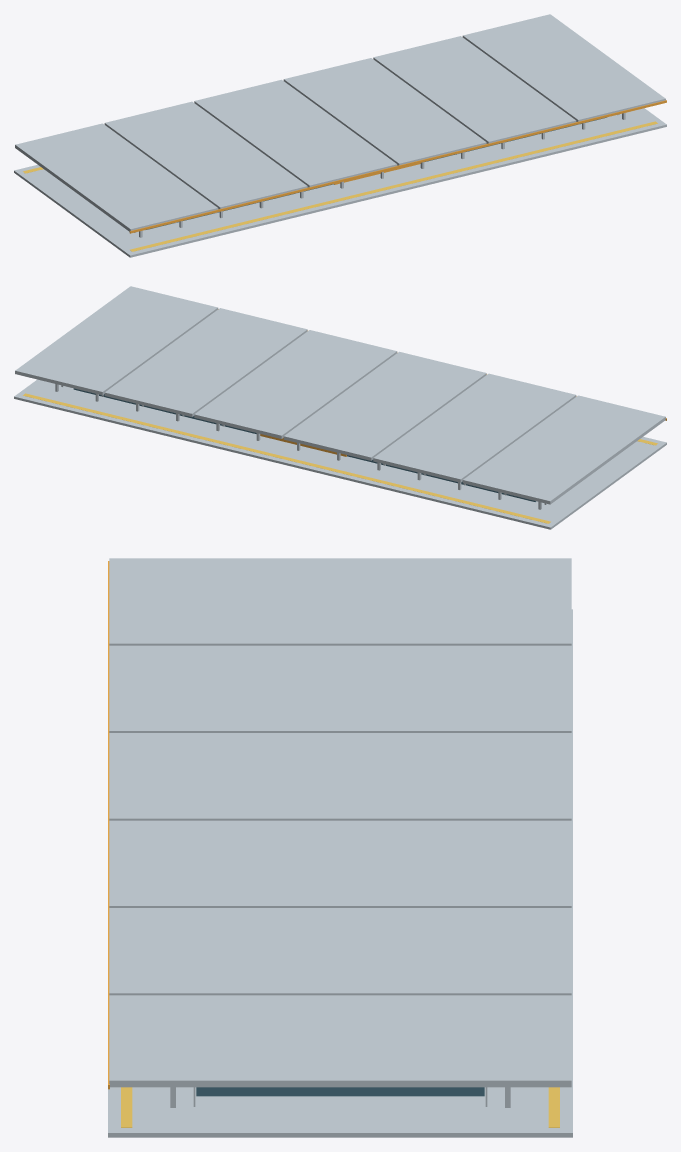
The model's file is nynj-station-TMP.glb.
3 views of the same model, one above another, from view 1: azimuth 30°, elevation 25°; view 2: azimuth 150°, elevation 25°; view 3: azimuth 270°, elevation 25° (orthographic). The views are drawn at different scales.
Visible parts, largest first — view 1: Canopy panel (×6), Platform, Platform edge, Phase fascia; view 2: Canopy panel (×6), Platform, Platform edge, Concourse glazing; view 3: Canopy panel (×6), Platform, Concourse glazing, Phase fascia.
Part boxes in pixels (bbox=[...]): Canopy panel (×6): bbox=[15, 14, 665, 231]; Platform: bbox=[14, 108, 666, 257]; Platform edge: bbox=[130, 121, 657, 251]; Phase fascia: bbox=[129, 100, 666, 233]; Canopy panel (×6): bbox=[15, 286, 665, 504]; Platform: bbox=[14, 379, 666, 529]; Platform edge: bbox=[23, 393, 550, 523]; Concourse glazing: bbox=[73, 388, 535, 501]; Canopy panel (×6): bbox=[109, 558, 571, 1087]; Platform: bbox=[108, 609, 572, 1137]; Concourse glazing: bbox=[196, 1087, 484, 1096]; Phase fascia: bbox=[108, 561, 109, 1089].
Size of the model in its own units: 120 by 6 by 45.
